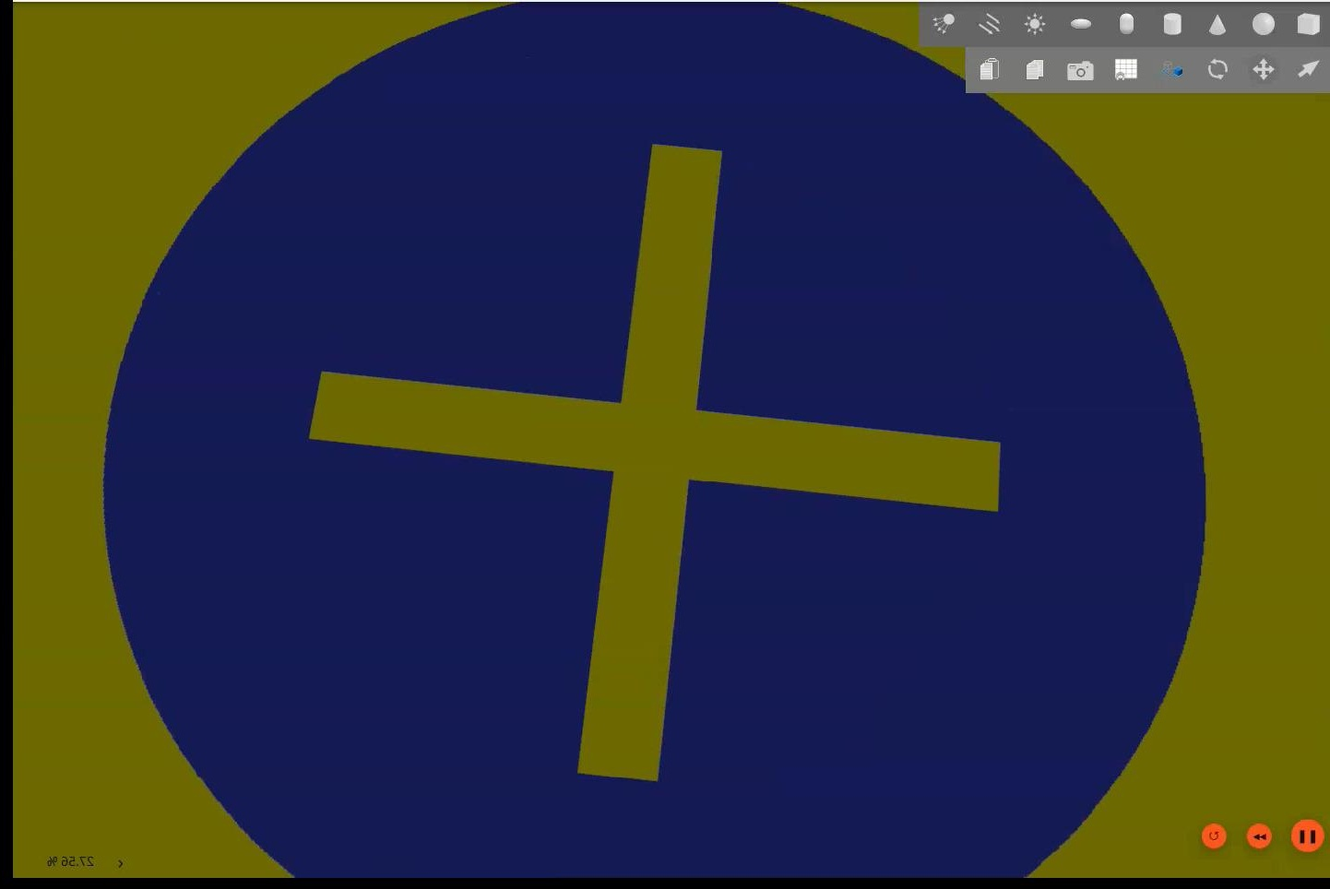large_base: (16, 1, 1328, 883)
